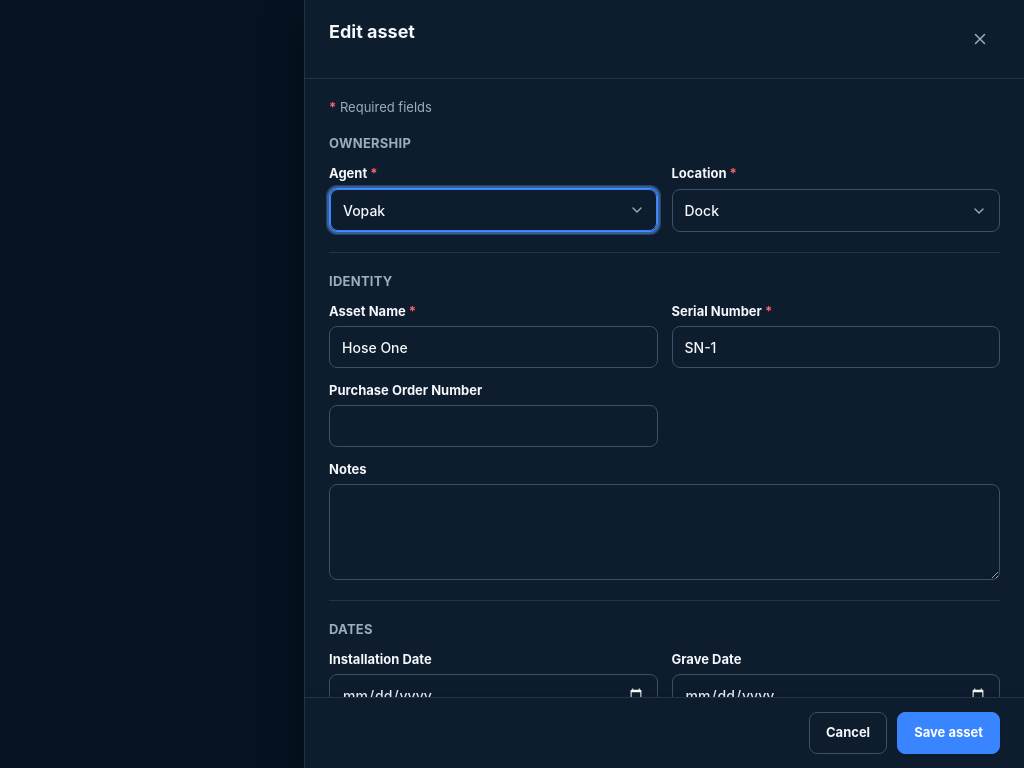
Test case: shared form behaviour on the Asset form › does not let Escape silently discard dirty data
This screenshot has width=1024, height=768.
Type "X" into the field labelled "Serial Number" at (836, 347), box [672,326,1000,368]
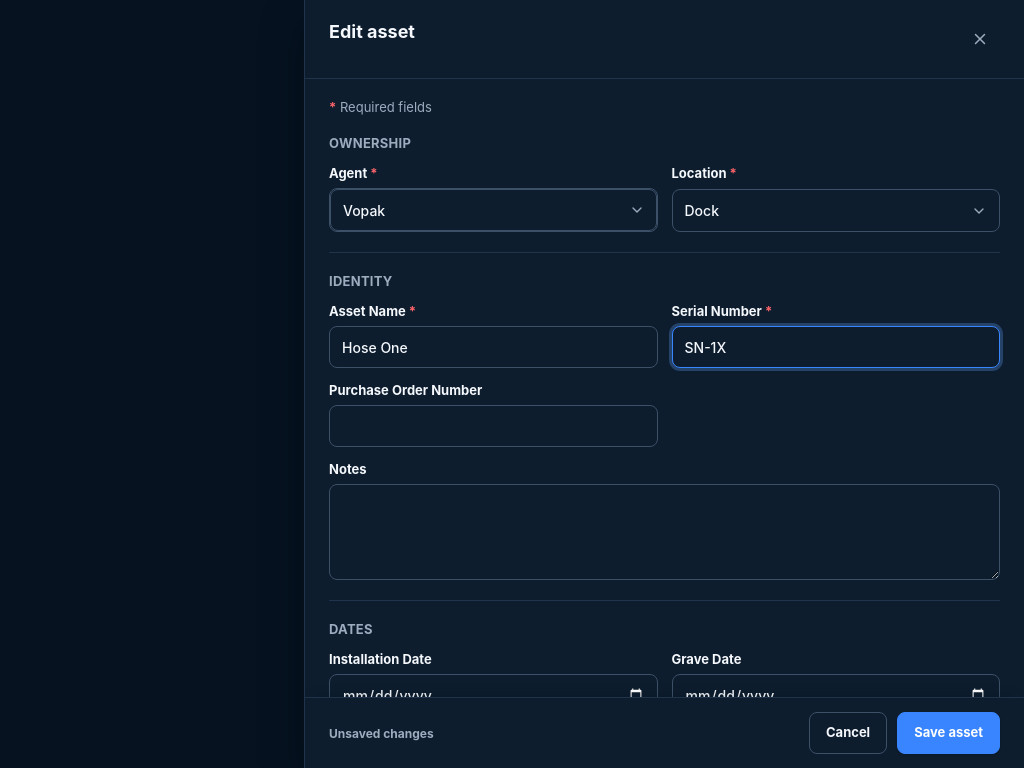
Press Escape
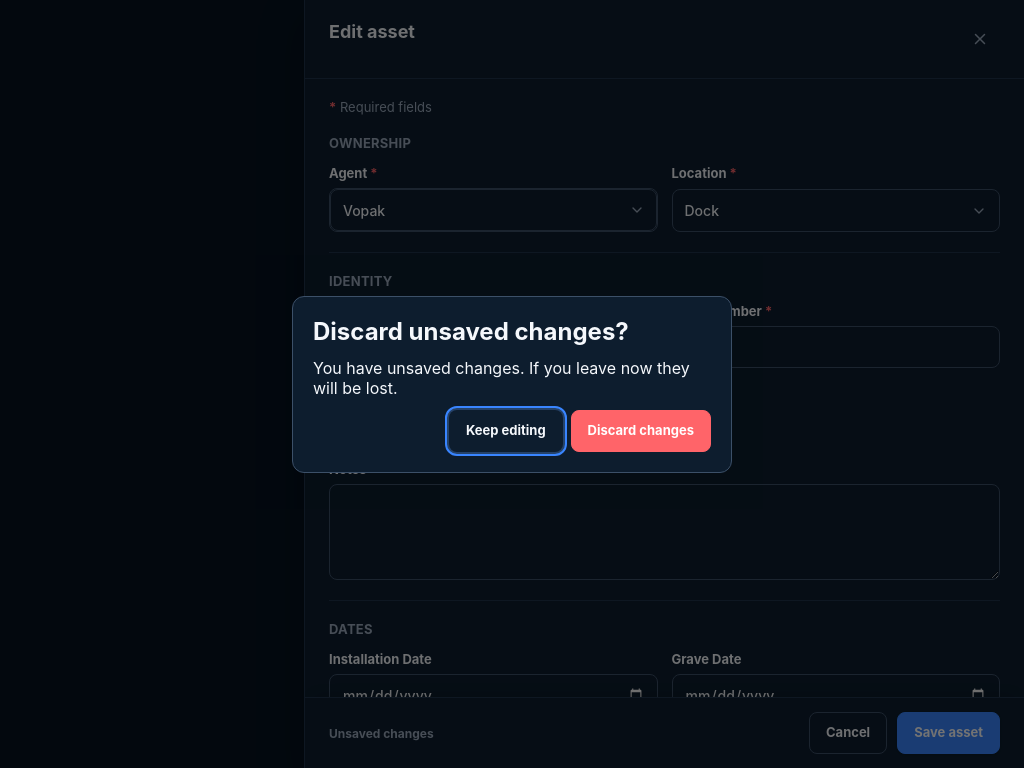
Now the dialog is shown, box [292,296,732,472]
